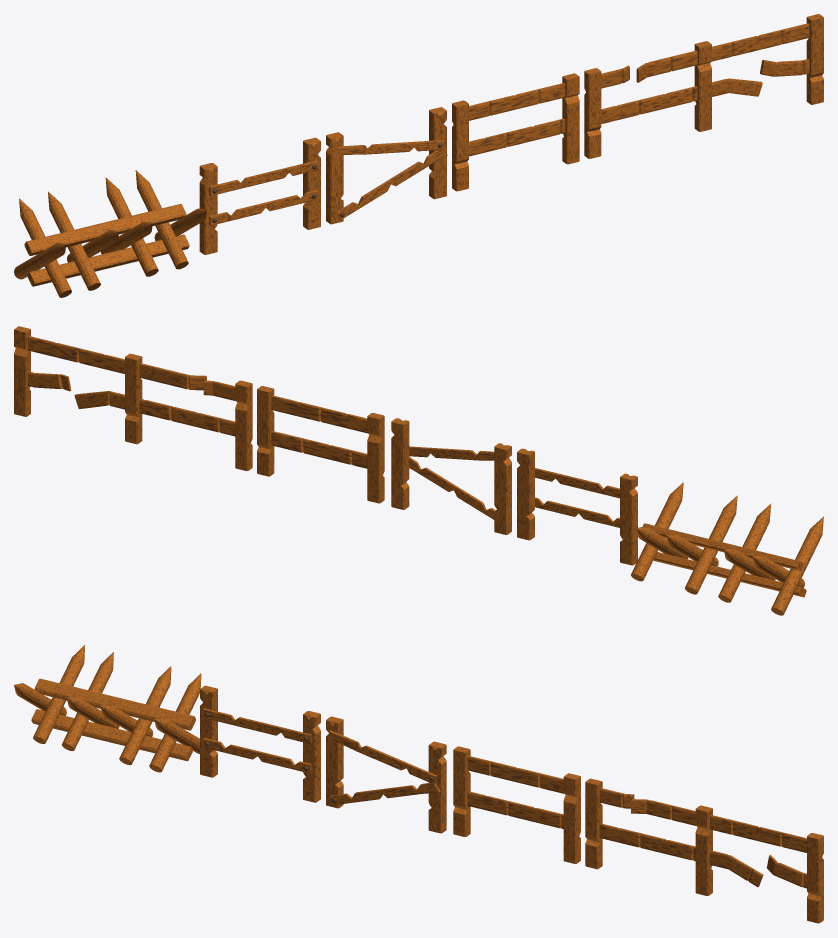
Rendered from Cercas.fbx.
3 views of the same model, one above another, from view 1: azimuth 30°, elevation 25°; view 2: azimuth 150°, elevation 25°; view 3: azimuth 330°, elevation 25° (orthographic).
Visible parts, largest first — view 1: Cerca de Espinhos, Cerca-4, Cerca-3, Cerca-2, Cerca-1; view 2: Cerca-4, Cerca de Espinhos, Cerca-3, Cerca-2, Cerca-1; view 3: Cerca de Espinhos, Cerca-4, Cerca-3, Cerca-2, Cerca-1.
Boxes of the visible parts, <box> form: Cerca de Espinhos: <box>14,170,206,297</box>; Cerca-4: <box>584,14,823,158</box>; Cerca-3: <box>452,73,579,191</box>; Cerca-2: <box>326,107,447,224</box>; Cerca-1: <box>199,137,320,254</box>; Cerca-4: <box>14,326,252,470</box>; Cerca de Espinhos: <box>631,482,823,615</box>; Cerca-3: <box>257,386,384,503</box>; Cerca-2: <box>391,418,511,534</box>; Cerca-1: <box>517,448,637,565</box>; Cerca de Espinhos: <box>14,645,201,772</box>; Cerca-4: <box>585,778,823,923</box>; Cerca-3: <box>453,746,580,863</box>; Cerca-2: <box>326,716,446,833</box>; Cerca-1: <box>200,685,320,802</box>.
Bounding box in the file's own units: 1172 × 122 × 153.
